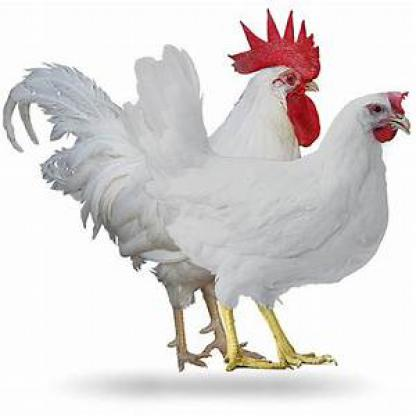chicken: (1, 8, 320, 370), (121, 43, 413, 373)
